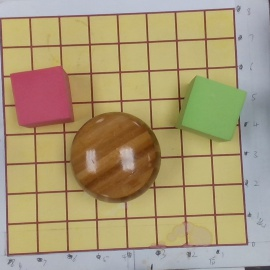chess: (71, 112, 163, 204)
